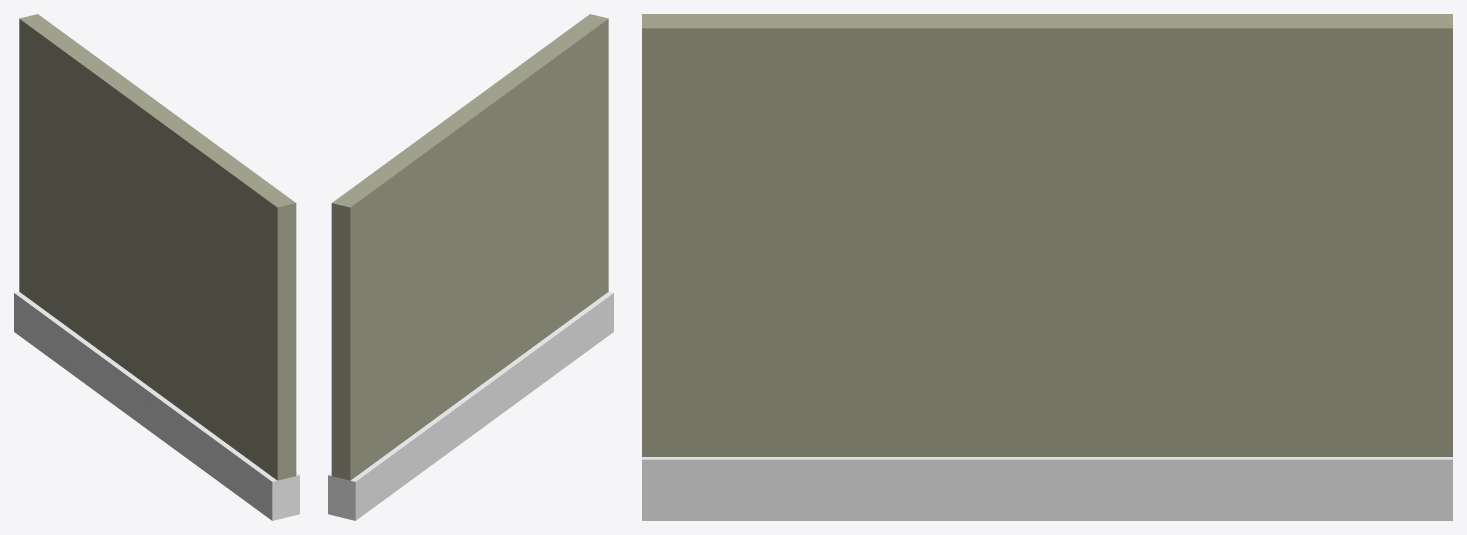
File: wall_Asset.fbx
3 views of the same model, side by side, from view 1: azimuth 30°, elevation 25°; view 2: azimuth 150°, elevation 25°; view 3: azimuth 270°, elevation 25° (orthographic). The views are drawn at different scales.
Visible parts, largest first — view 1: wall; view 2: wall; view 3: wall.
Part boxes in pixels (left/top/right/bottom): wall: left=14, top=14, right=299, bottom=520; wall: left=328, top=14, right=613, bottom=520; wall: left=642, top=14, right=1452, bottom=520.
Bounding box in the file's own units: 30.43 × 330 × 494.
